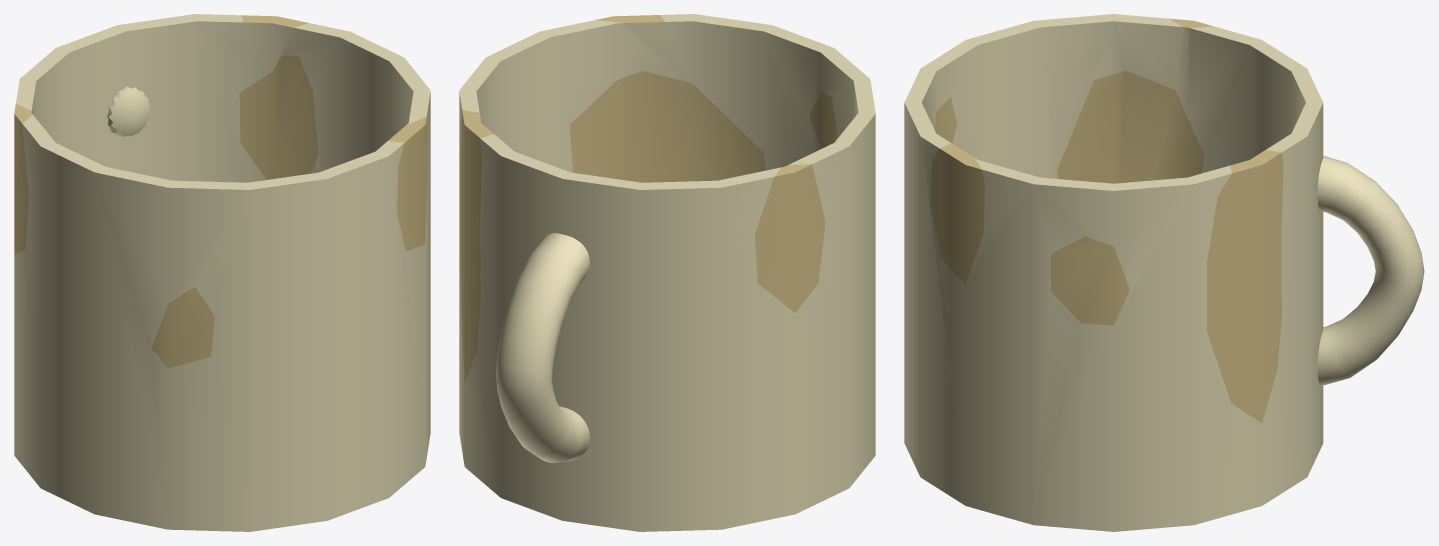
File: cup_dirty.fbx
3 renders of one model, left to right at view 1: azimuth 30°, elevation 25°; view 2: azimuth 150°, elevation 25°; view 3: azimuth 270°, elevation 25°, orthographic.
Parts seen in each view (by area): view 1: Cup; view 2: Cup; view 3: Cup.
Part boxes in pixels (x1,y1,x2,y2): Cup: [14, 14, 430, 531]; Cup: [459, 14, 875, 531]; Cup: [904, 14, 1424, 531].
Bounding box in the file's own units: 180 × 162 × 223.
